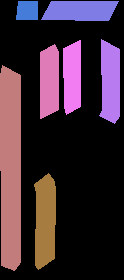parkingspot: (0, 65, 20, 270), (34, 173, 55, 269), (99, 39, 119, 123), (41, 1, 118, 20), (40, 44, 58, 118), (63, 40, 80, 114), (16, 1, 37, 19)
